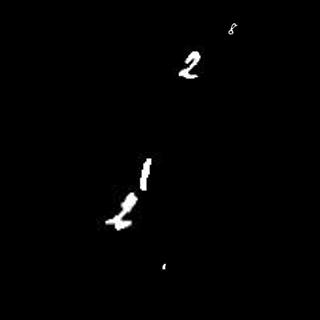dot: (157, 257, 169, 275)
eight: (225, 20, 241, 37)
one: (138, 156, 157, 193)
two: (101, 190, 137, 235), (177, 49, 206, 83)
